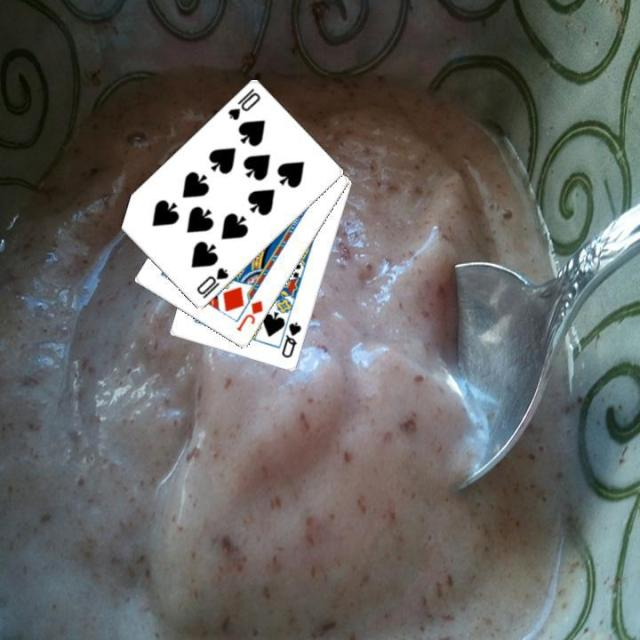10S: (224, 85, 262, 123), (193, 264, 230, 300)
JD: (233, 297, 265, 333)
QS: (277, 318, 303, 360)
